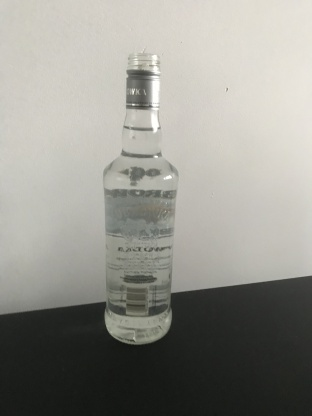nakretka: (124, 50, 161, 111)
